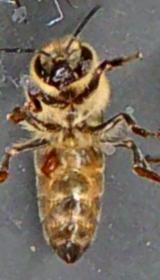varroa_mite: (35, 146, 67, 178)
